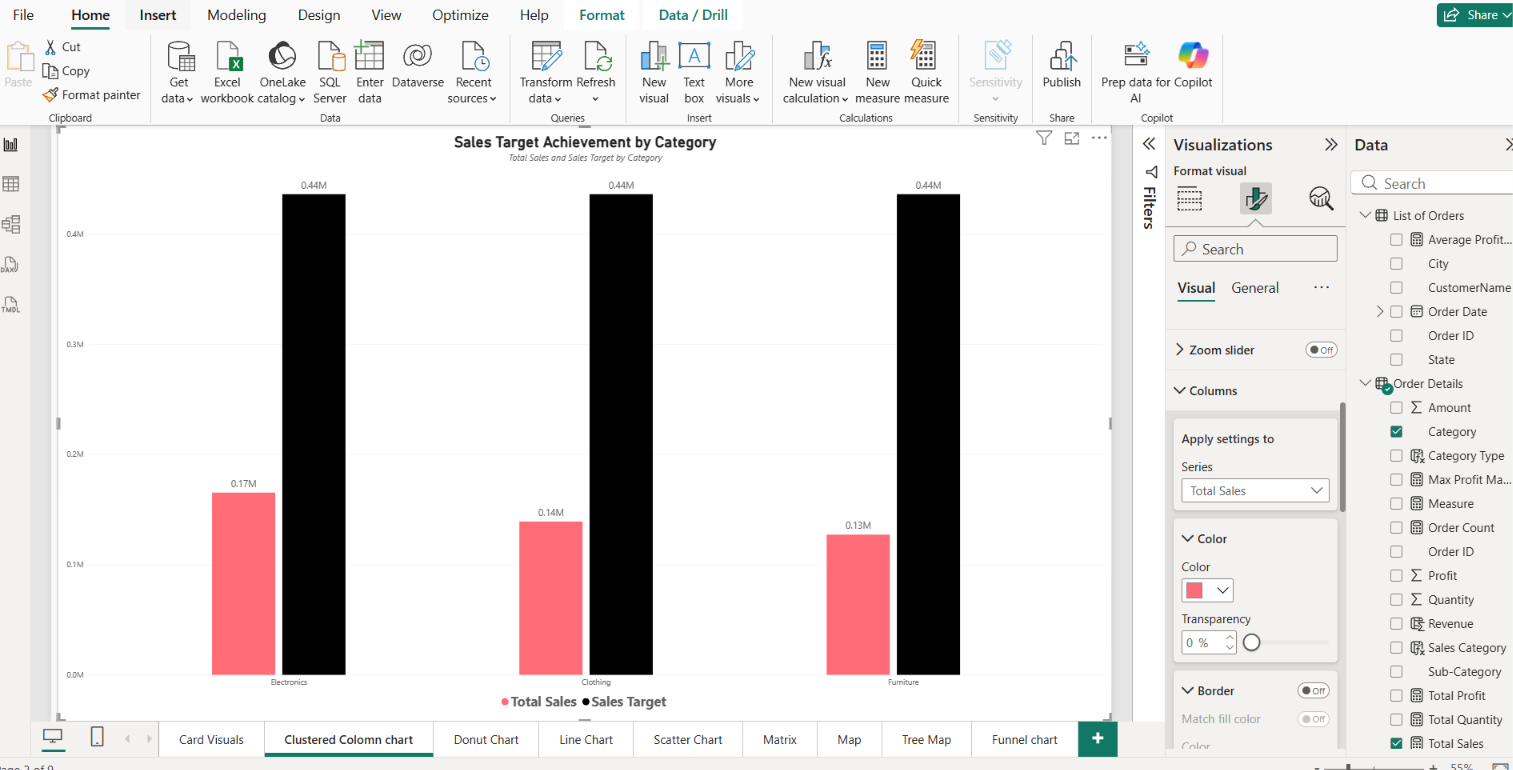

This screenshot's page, from the dashboard's own definition file:
{"tool":"powerbi","page":{"name":"Clustered Colomn chart","canvas":[1920,1080],"ordinal":1},"visuals":[{"type":"clusteredColumnChart","title":"Sales Target Achievement by Category","fields":{"Category":["Order Details.Category"],"Y":["Order Details.Total Sales","Sales target.Sales Target"]},"box":[10.3,0,1910.1,1080.6],"z":0}]}

Visuals, with their boxes on the page's 1920x1080 design canvas (x1, y1, x2, y2). These are canvas units, not pixel positions in the 1513x770 screenshot, which may show the page scaled, cropped or inside an application window:
"Sales Target Achievement by Category" clusteredColumnChart: [x1=10, y1=0, x2=1920, y2=1081]
